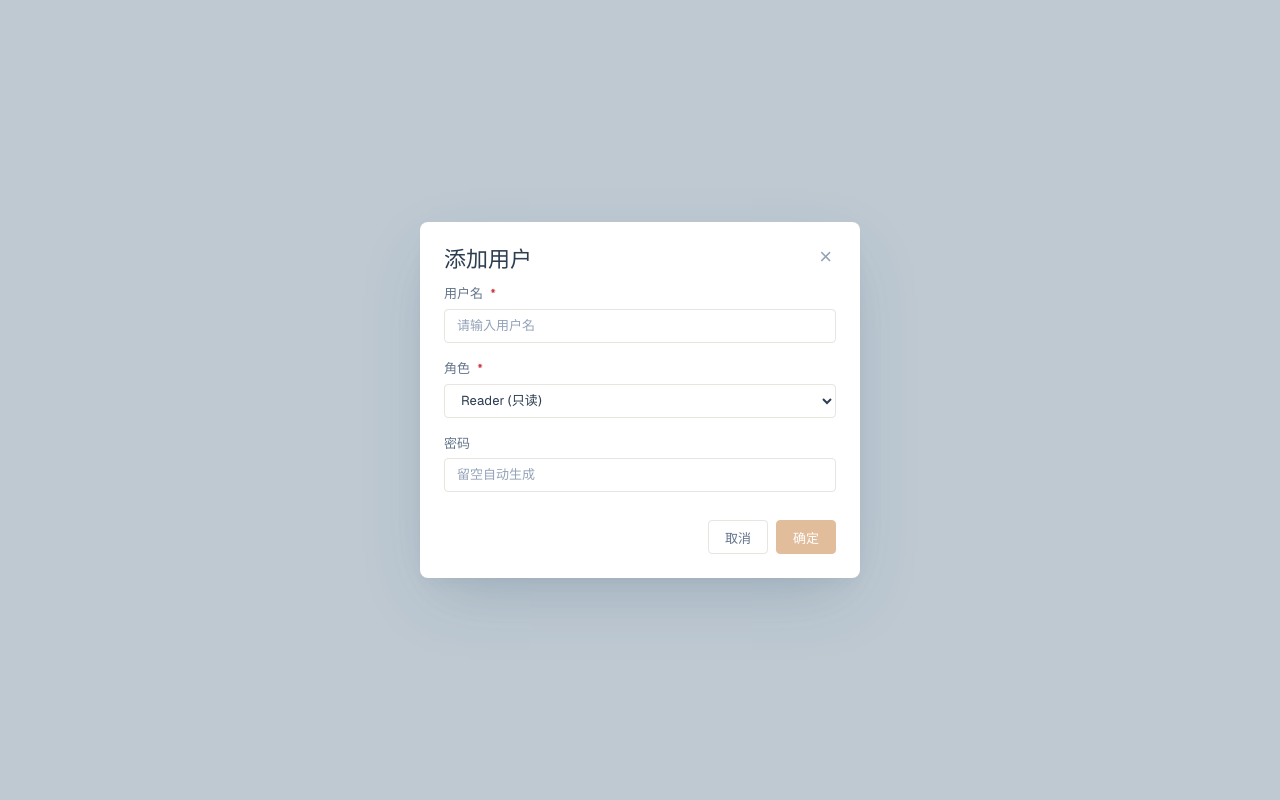
CreateUserDialog › shows password result after successful creation
Type "newuser" into the field with placeholder "请输入用户名" at (640, 326), box [444,309,836,343]
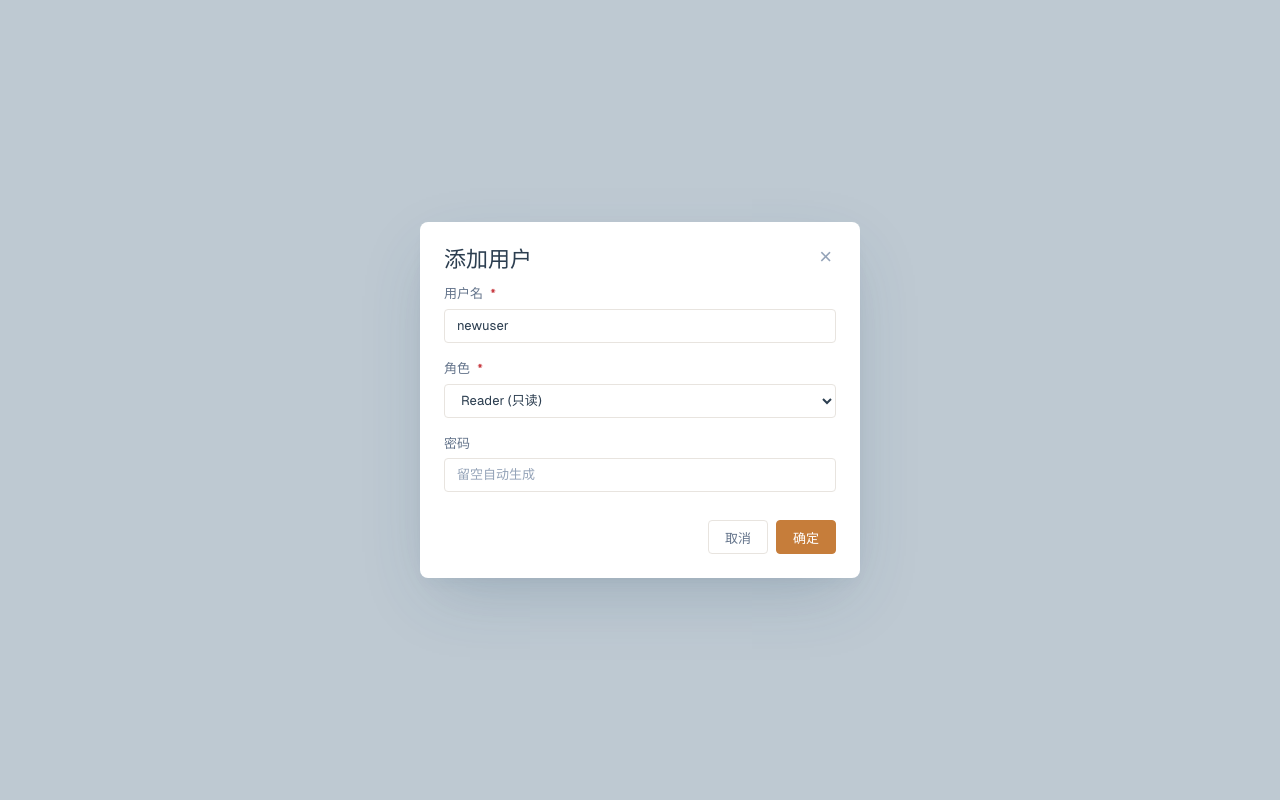
Click the button "确定" at (806, 537), box [776,520,836,554]
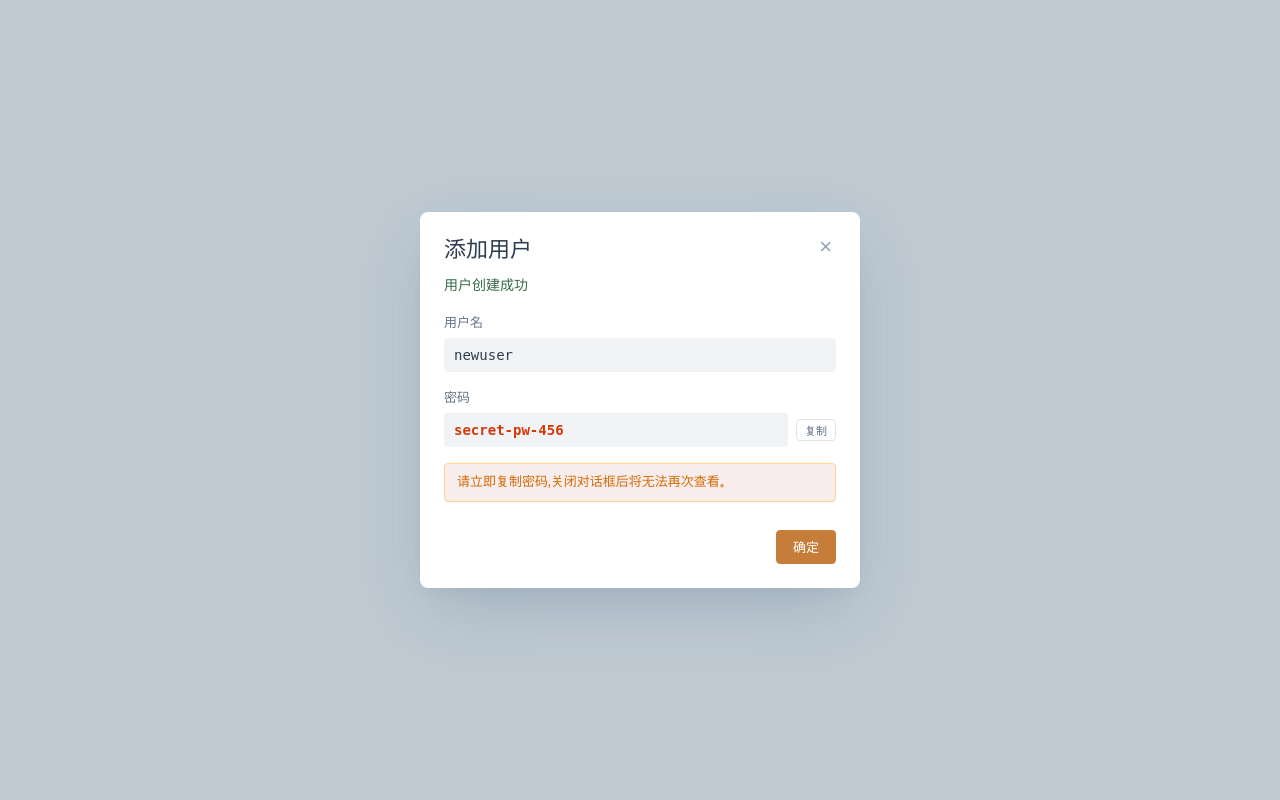
Check: the text "用户创建成功" is shown, box [444,277,528,293]
Check: the text "secret-pw-456" is shown, box [444,413,788,447]
Check: the text with class "readonly-value" reads "newuser", box [454,347,513,363]
